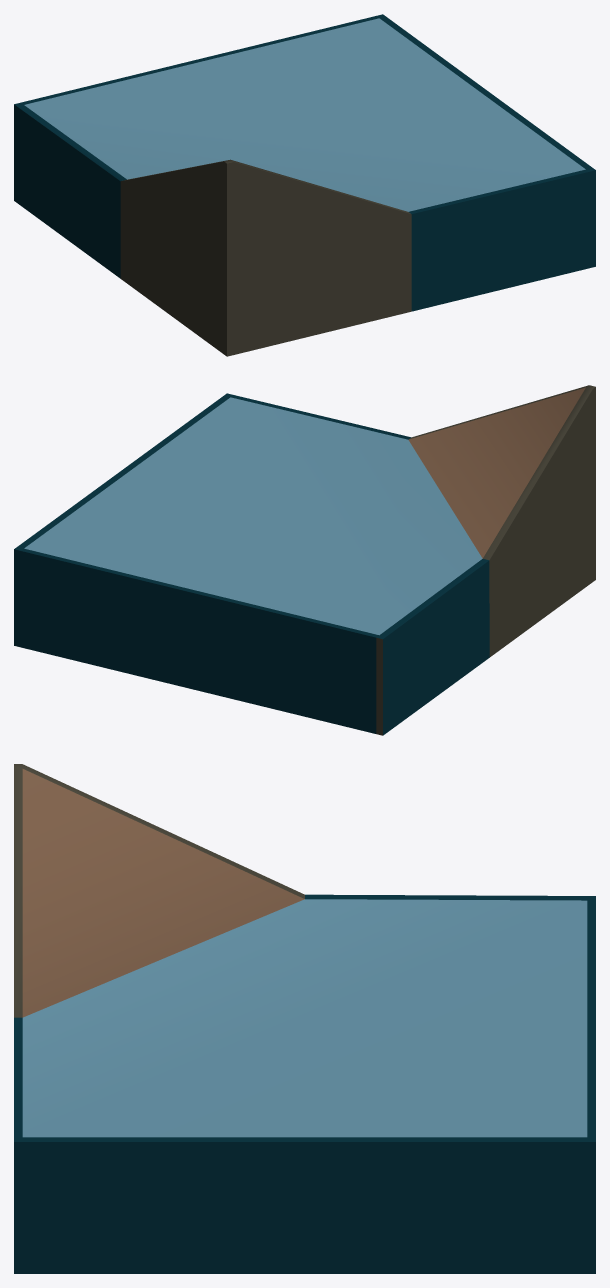
The model's file is Agua_18.fbx.
3 renders of one model, top to bottom at view 1: azimuth 30°, elevation 25°; view 2: azimuth 150°, elevation 25°; view 3: azimuth 270°, elevation 25°, orthographic. The views are drawn at different scales.
Visible parts, largest first — view 1: pCube6; view 2: pCube6; view 3: pCube6.
Part boxes in pixels (x1,y1,x2,y2): pCube6: [14, 14, 595, 356]; pCube6: [14, 385, 595, 735]; pCube6: [14, 764, 595, 1273].
Bounding box in the file's own units: 200 × 100 × 200.
